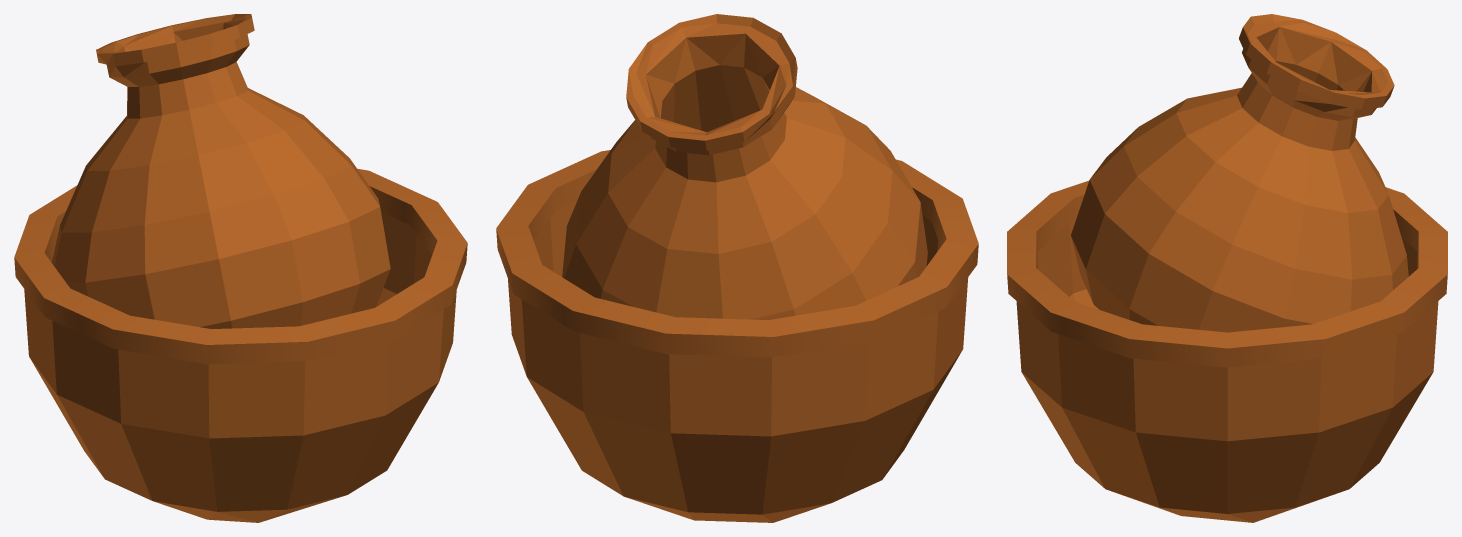
Rendered from SM_pottery_stacked_02.fbx.
The picture shows the model from 3 angles, left to right: view 1: azimuth 30°, elevation 25°; view 2: azimuth 150°, elevation 25°; view 3: azimuth 270°, elevation 25°; orthographic projection. The views are drawn at different scales.
Parts seen in each view (by area): view 1: Cylinder063; view 2: Cylinder063; view 3: Cylinder063.
Boxes of the visible parts, x1=… form: Cylinder063: x1=14, y1=14, x2=467, y2=522; Cylinder063: x1=496, y1=14, x2=978, y2=522; Cylinder063: x1=1007, y1=14, x2=1447, y2=522.
Bounding box in the file's own units: 29.66 × 33.47 × 28.92.
